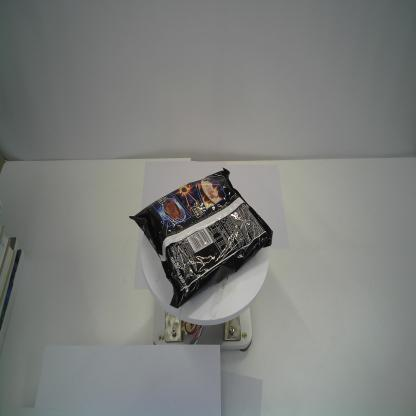Instant Noodles: (128, 167, 274, 310)
